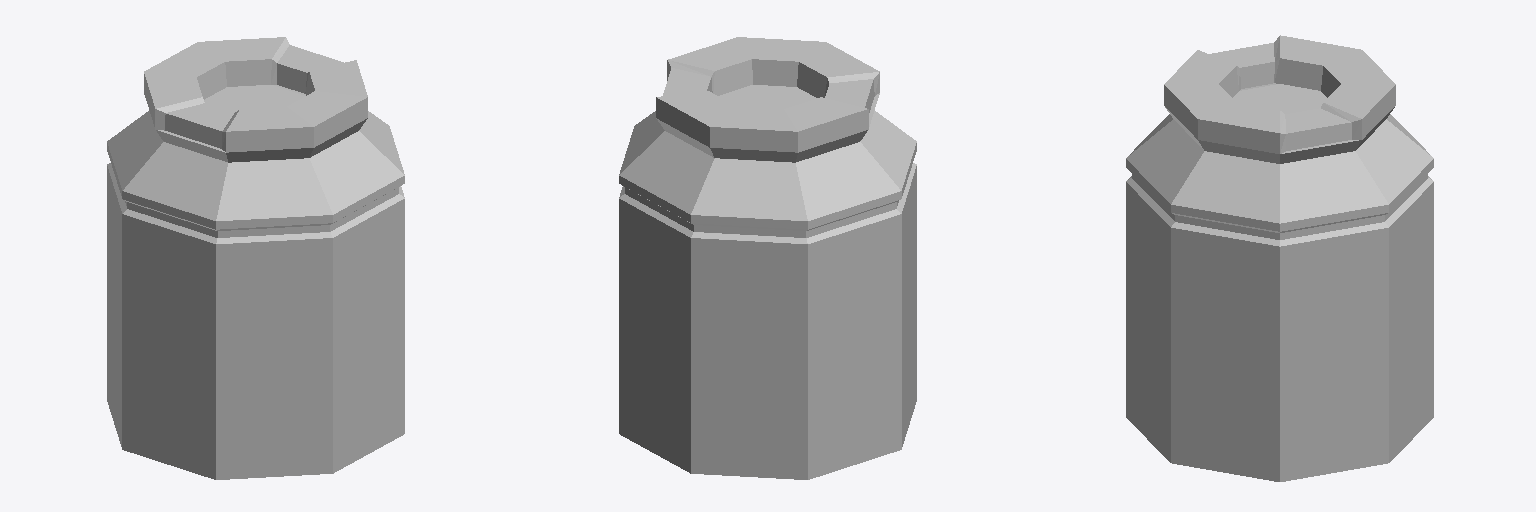
File: Bin.obj
3 renders of one model, left to right at view 1: azimuth 30°, elevation 25°; view 2: azimuth 150°, elevation 25°; view 3: azimuth 270°, elevation 25°, orthographic.
Visible parts, largest first — view 1: Bin; view 2: Bin; view 3: Bin.
Boxes of the visible parts, <box> form: Bin: <box>107,37,404,479</box>; Bin: <box>619,37,916,479</box>; Bin: <box>1126,35,1433,481</box>.
Size of the model in its own units: 30.08 by 36.96 by 30.08.